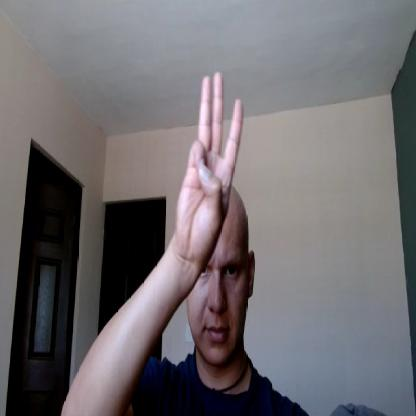W: (177, 72, 244, 263)
